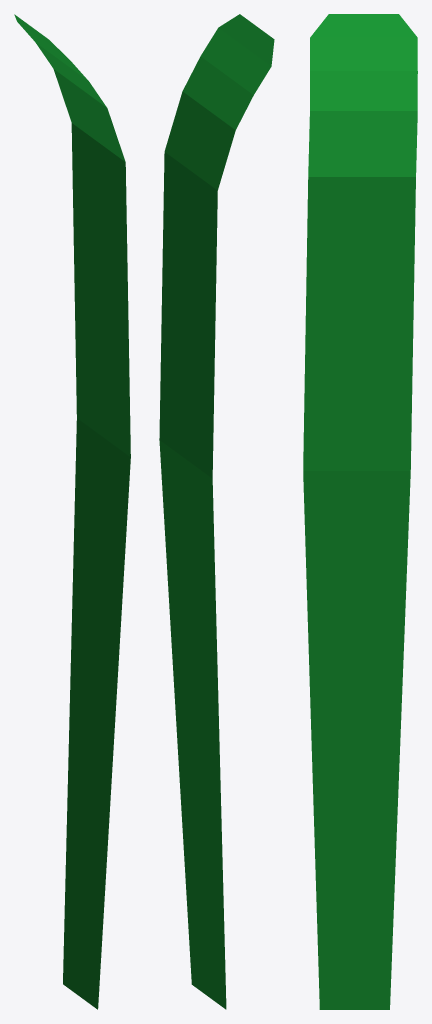
File: her.glb
3 renders of one model, left to right at view 1: azimuth 30°, elevation 25°; view 2: azimuth 210°, elevation 25°; view 3: azimuth 270°, elevation 25°, orthographic.
Visible parts, largest first — view 1: Plan; view 2: Plan; view 3: Plan.
Part boxes in pixels (box(x1,y1,x2,y2)): Plan: box(14, 14, 130, 1009); Plan: box(159, 14, 274, 1009); Plan: box(303, 14, 417, 1009).
Bounding box in the file's own units: 0.0342 × 0.4649 × 0.0496.
